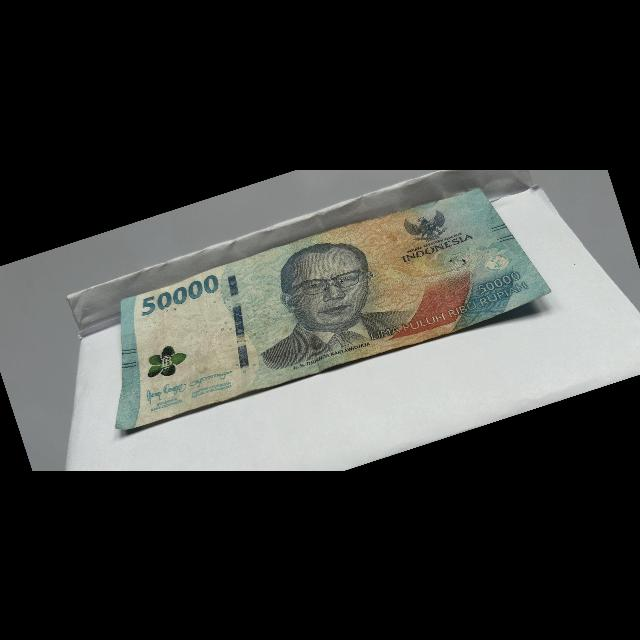Palsu-50k: (75, 172, 559, 435)
Tinta-Palsu-50k: (142, 341, 191, 379)
